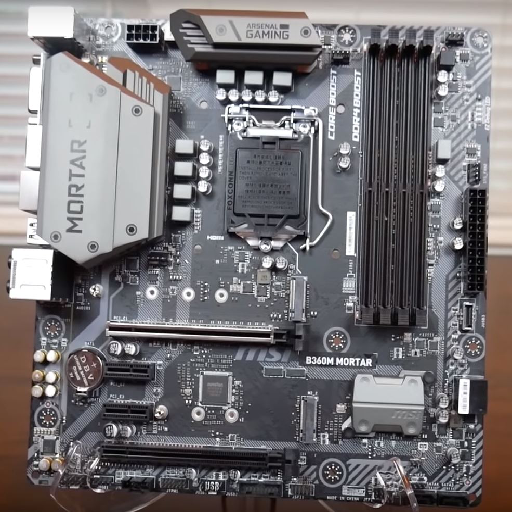CPU: (222, 125, 310, 253)
GPU: (104, 316, 309, 353), (100, 442, 301, 478)
MOTHERBOARD: (20, 9, 489, 506)
RAM: (359, 28, 437, 330)
SSD: (294, 393, 320, 450), (284, 273, 309, 322)
